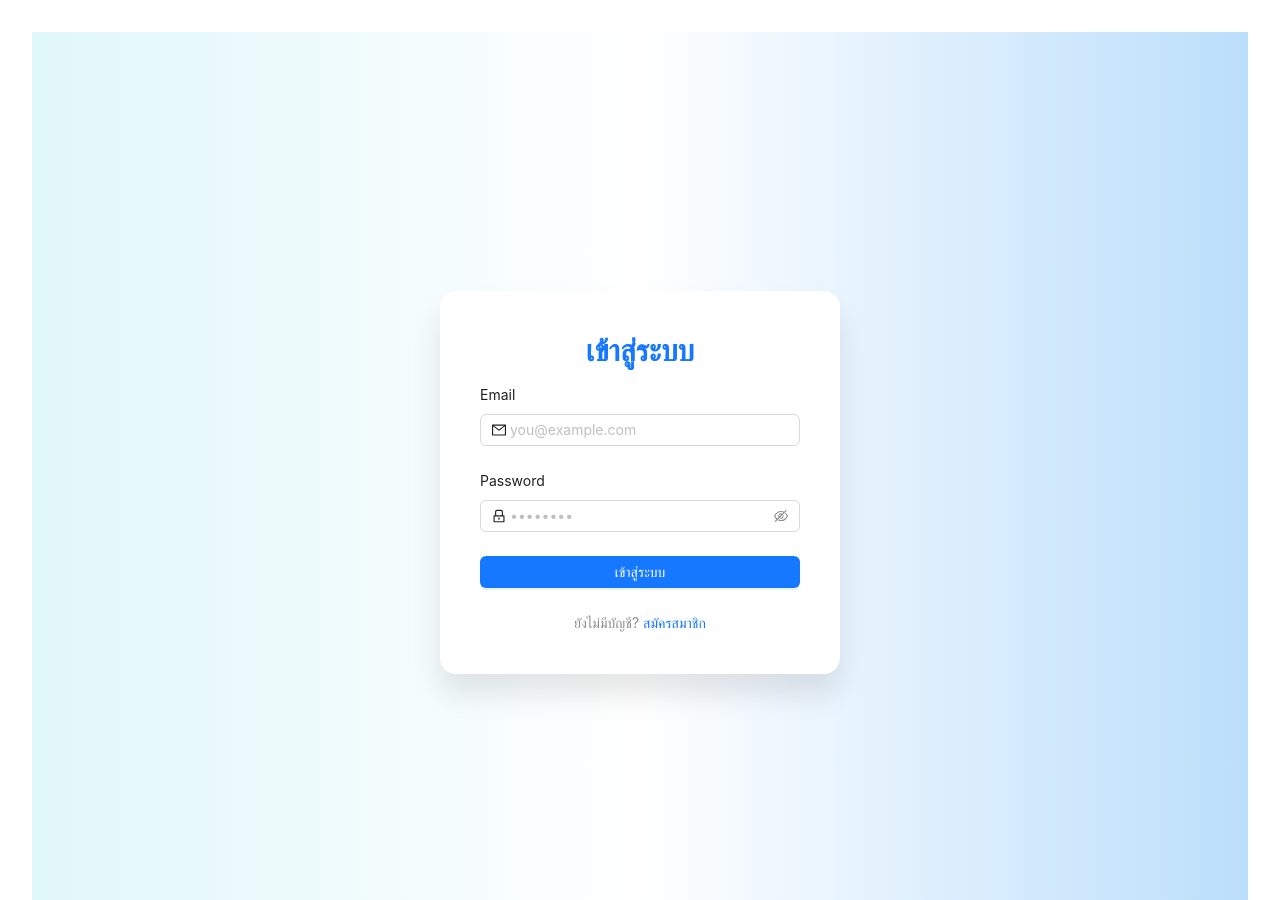
Test: Login Component › shows validation errors on empty submit
The image size is (1280, 900).
Click the button "เข้าสู่ระบบ".
click(640, 572)  # box [480,556,800,588]
(page scrolled)
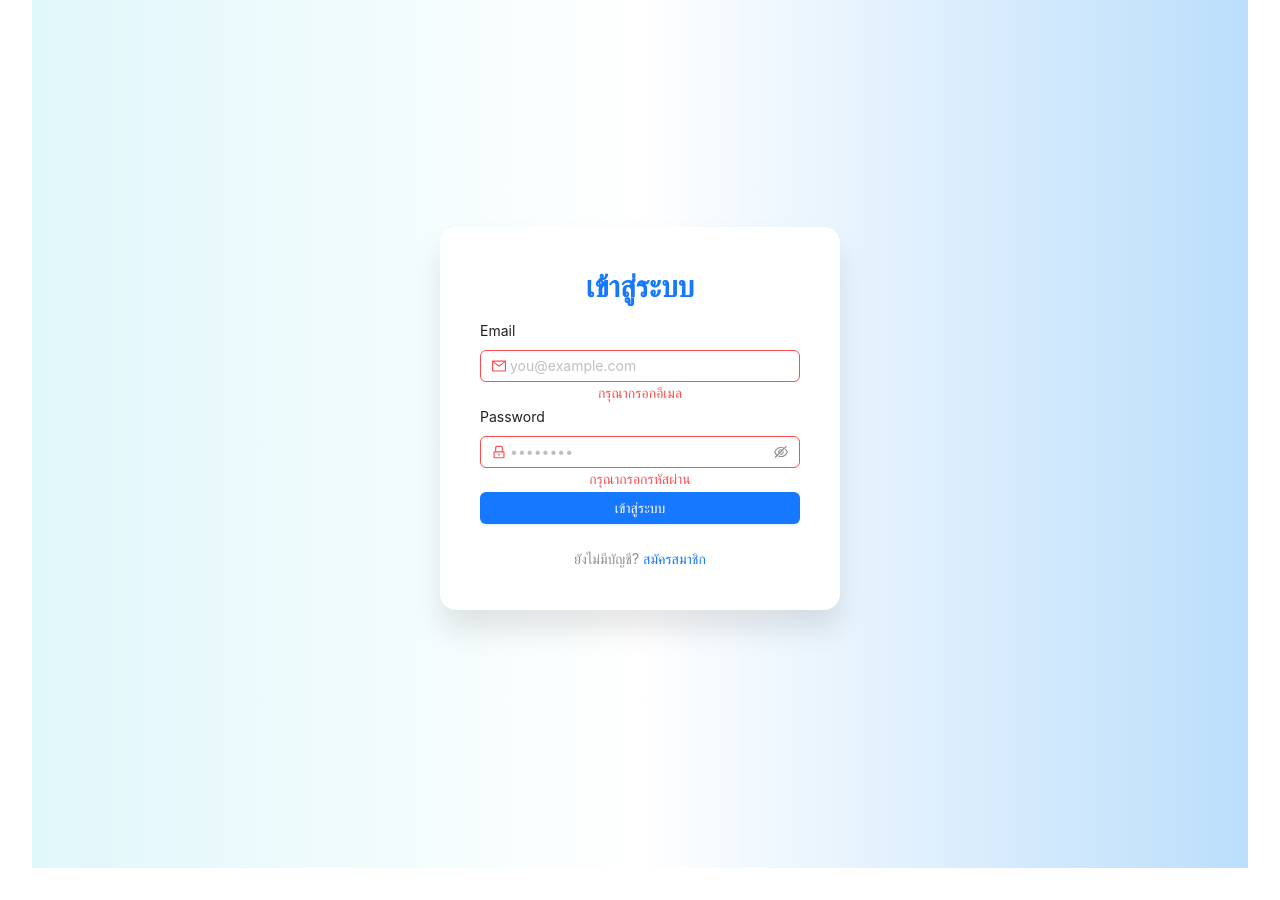
Expected: the text "กรุณากรอกอีเมล" is shown, [598,384,682,400]
Expected: the text "กรุณากรอกรหัสผ่าน" is shown, [589,470,691,486]
